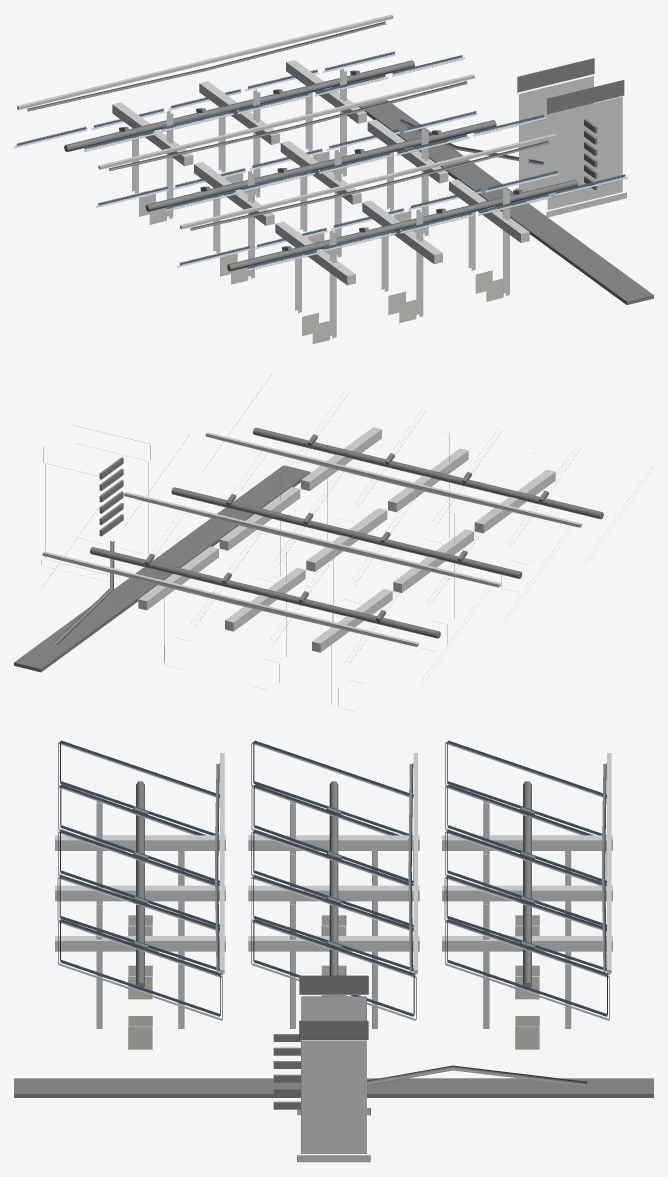
File: solar-panel.glb
3 views of the same model, one above another, from view 1: azimuth 30°, elevation 25°; view 2: azimuth 150°, elevation 25°; view 3: azimuth 270°, elevation 25° (orthographic). The views are drawn at different scales.
Parts seen in each view (by area): view 1: metal, darkMetal, panelDark, concrete; view 2: darkMetal, metal; view 3: metal, darkMetal, panelDark, concrete.
Boxes of the visible parts, x1,y1,x2,y2 form: metal: [14, 14, 627, 338]; darkMetal: [27, 21, 653, 304]; panelDark: [16, 51, 625, 268]; concrete: [139, 151, 626, 344]; darkMetal: [14, 425, 603, 672]; metal: [42, 427, 653, 703]; metal: [55, 742, 612, 1153]; darkMetal: [14, 763, 653, 1109]; panelDark: [59, 740, 607, 1016]; concrete: [128, 915, 539, 1162].
Size of the model in its own units: 8.87 by 2.16 by 8.6.
